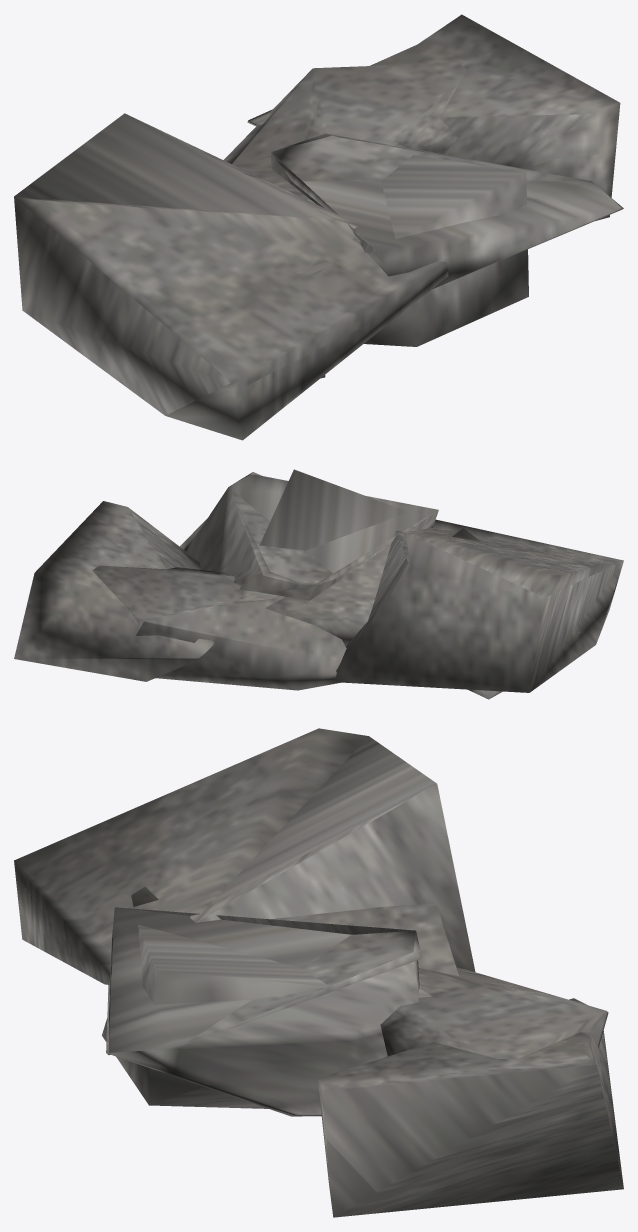
Rendered from rock_scree_02.glb.
3 renders of one model, top to bottom at view 1: azimuth 30°, elevation 25°; view 2: azimuth 150°, elevation 25°; view 3: azimuth 270°, elevation 25°, orthographic. The views are drawn at different scales.
Parts seen in each view (by area): view 1: rock_scree_02; view 2: rock_scree_02; view 3: rock_scree_02.
Part boxes in pixels (x1,y1,x2,y2): rock_scree_02: (14,14,623,440); rock_scree_02: (14,469,623,699); rock_scree_02: (14,728,623,1217).
Size of the model in its own units: 0.6662 by 0.1919 by 0.5408.
1 material, 1 textured.
